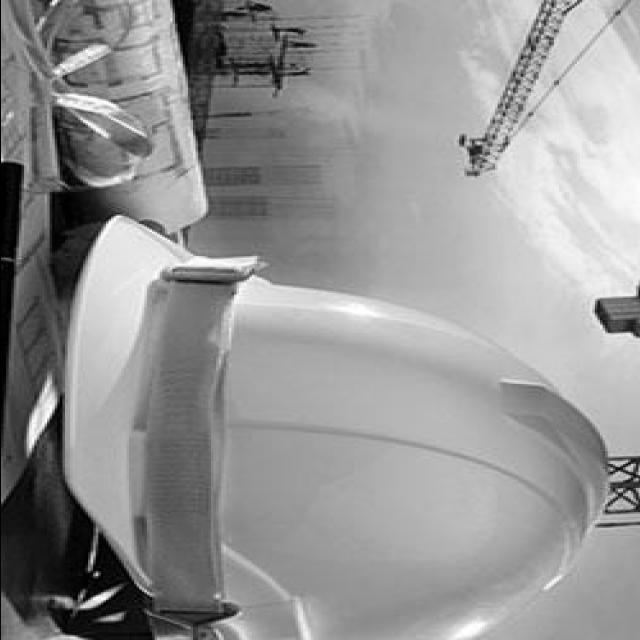safety_helmet: (59, 214, 609, 640)
